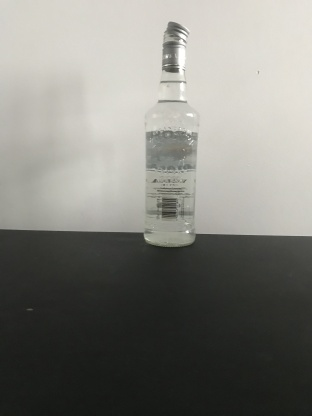nakretka: (160, 19, 191, 73)
